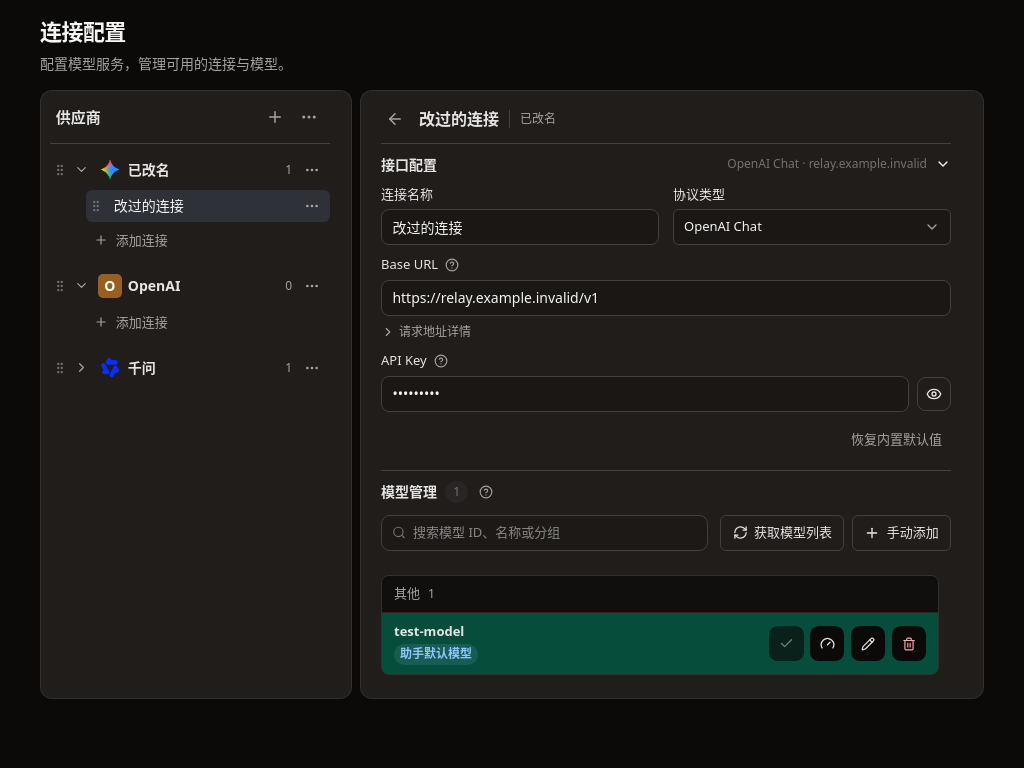
discards the draft with Escape without a durable provider
This screenshot has width=1024, height=768.
Click the button named "添加供应商": (275,117) top-left (260, 102), bottom-right (290, 132)
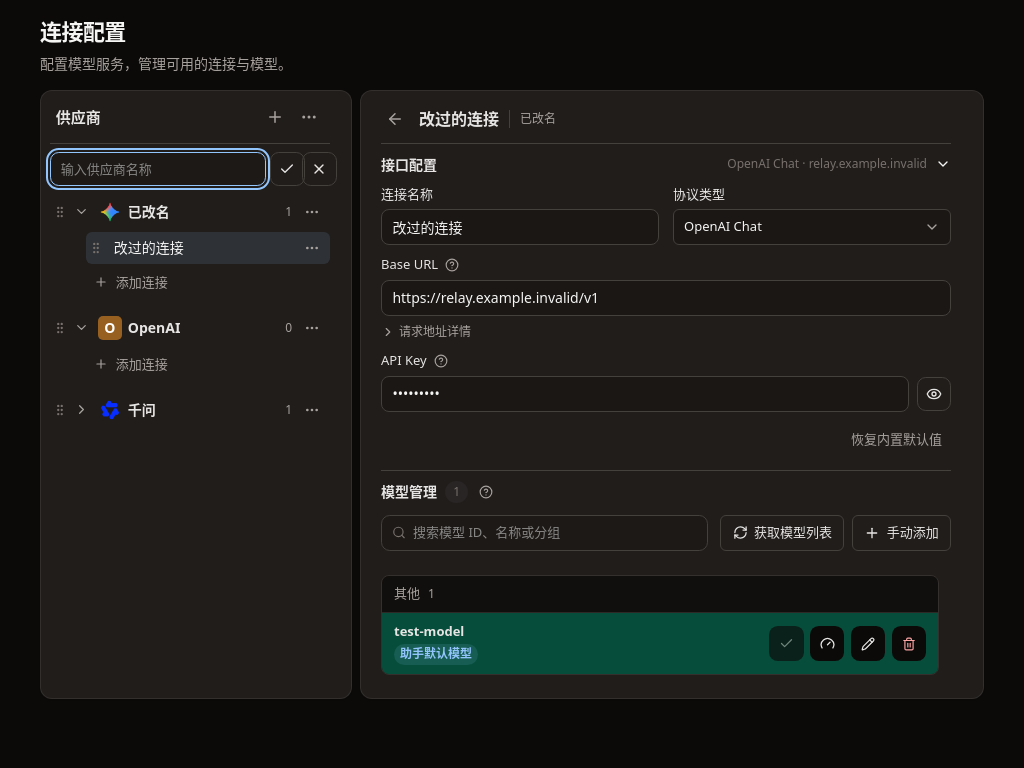
Press Escape in the field named "providerName", box top-left (50, 152), bottom-right (266, 186)
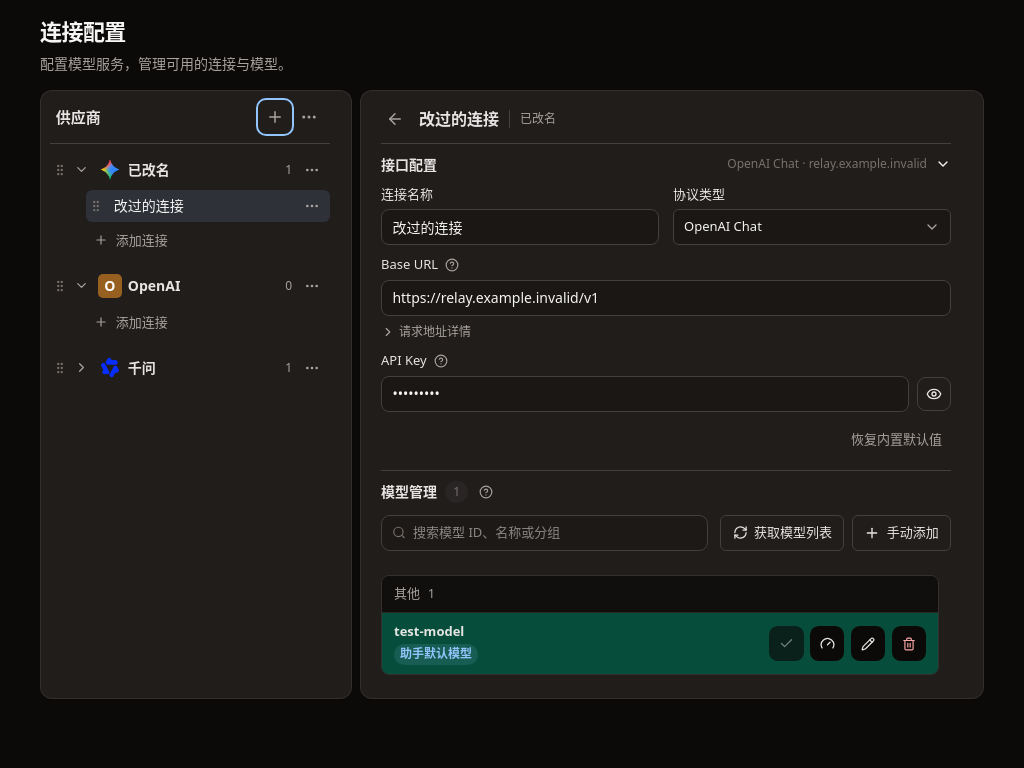
Expected: the button named "添加供应商" is shown, top-left (260, 102), bottom-right (290, 132)
Result: the field named "providerName" is gone
